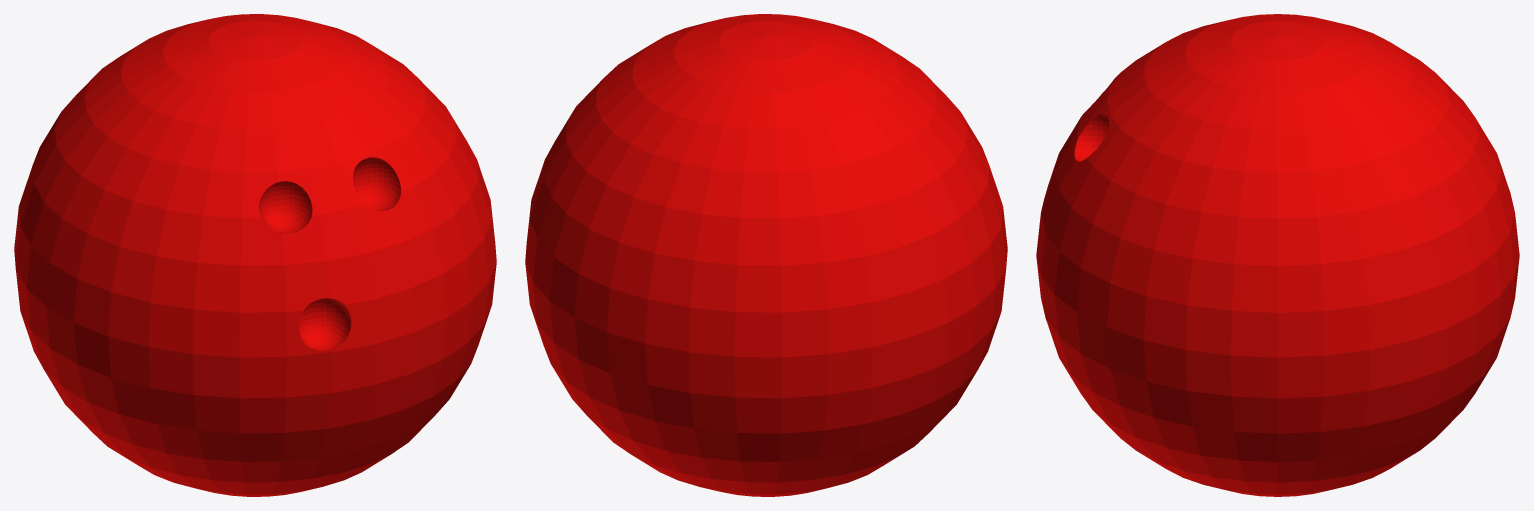
The model's file is BowlingPallafbx.fbx.
The picture shows the model from 3 angles, left to right: view 1: azimuth 30°, elevation 25°; view 2: azimuth 150°, elevation 25°; view 3: azimuth 270°, elevation 25°; orthographic projection.
Visible parts, largest first — view 1: Sphere; view 2: Sphere; view 3: Sphere.
Boxes of the visible parts, x1=… form: Sphere: x1=14, y1=14, x2=496, y2=496; Sphere: x1=525, y1=14, x2=1007, y2=496; Sphere: x1=1036, y1=14, x2=1519, y2=496.
Size of the model in its own units: 2 by 2 by 2.
